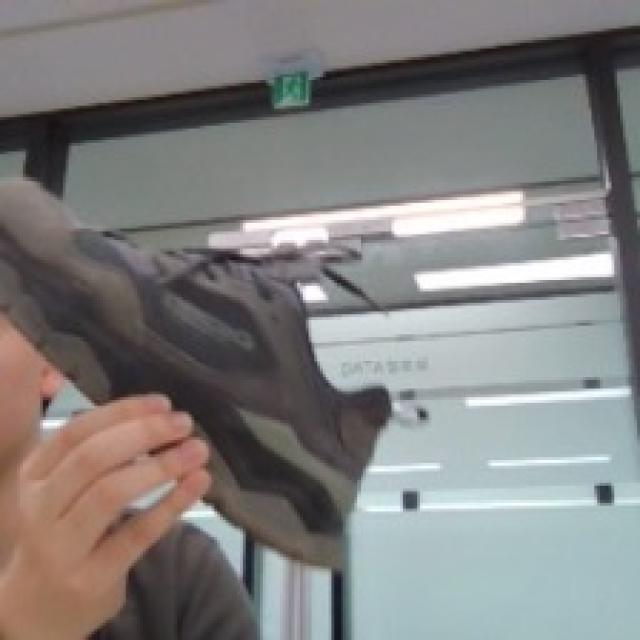shoe: (0, 184, 396, 563)
